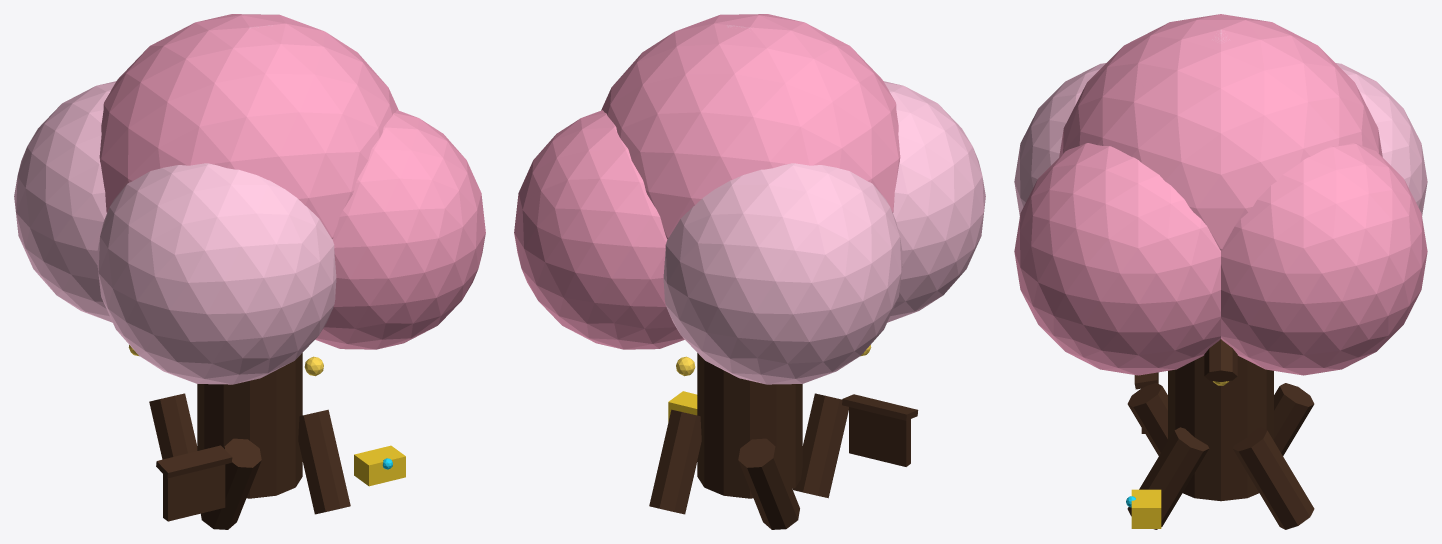
File: Arbol_Sagrado_Spectacular.obj
3 views of the same model, side by side, from view 1: azimuth 30°, elevation 25°; view 2: azimuth 150°, elevation 25°; view 3: azimuth 270°, elevation 25° (orthographic).
Visible parts, largest first — view 1: Sakura_Cloud_2, Sakura_Cloud_1, Sakura_Cloud_3, Sakura_Cloud_4, Tree_Trunk, Buttress_Root_4, Quest_Noticeboard, Buttress_Root_3, Buttress_Root_2, Daily_Reward_Chest, Quest_Rooflet; view 2: Sakura_Cloud_4, Sakura_Cloud_1, Sakura_Cloud_5, Sakura_Cloud_2, Tree_Trunk, Buttress_Root_1, Buttress_Root_3, Buttress_Root_2, Quest_Noticeboard, Quest_Rooflet, Daily_Reward_Chest; view 3: Sakura_Cloud_1, Sakura_Cloud_3, Sakura_Cloud_5, Tree_Trunk, Sakura_Cloud_2, Sakura_Cloud_4, Buttress_Root_1, Buttress_Root_4, Buttress_Root_2, Buttress_Root_3, Daily_Reward_Chest, Bough_1.
Part boxes in pixels (box(x1,y1,x2,y2)): Sakura_Cloud_2: box(96, 163, 336, 384); Sakura_Cloud_1: box(99, 14, 398, 238); Sakura_Cloud_3: box(315, 110, 485, 349); Sakura_Cloud_4: box(14, 81, 116, 322); Tree_Trunk: box(197, 353, 302, 498); Buttress_Root_4: box(298, 409, 350, 514); Quest_Noticeboard: box(163, 464, 225, 521); Buttress_Root_3: box(201, 438, 261, 529); Buttress_Root_2: box(149, 393, 197, 459); Daily_Reward_Chest: box(354, 445, 405, 486); Quest_Rooflet: box(156, 445, 232, 478); Sakura_Cloud_4: box(663, 163, 903, 384); Sakura_Cloud_1: box(601, 14, 900, 238); Sakura_Cloud_5: box(514, 110, 684, 349); Sakura_Cloud_2: box(883, 81, 985, 322); Tree_Trunk: box(697, 353, 802, 498); Buttress_Root_1: box(649, 409, 701, 514); Buttress_Root_3: box(792, 393, 848, 498); Buttress_Root_2: box(738, 438, 799, 529); Quest_Noticeboard: box(849, 407, 910, 466); Quest_Rooflet: box(842, 394, 918, 420); Daily_Reward_Chest: box(668, 391, 697, 421); Sakura_Cloud_1: box(1059, 14, 1382, 250); Sakura_Cloud_3: box(1014, 143, 1220, 375); Sakura_Cloud_5: box(1221, 143, 1427, 375); Tree_Trunk: box(1168, 355, 1273, 501); Sakura_Cloud_2: box(1014, 63, 1105, 215); Sakura_Cloud_4: box(1336, 63, 1427, 215); Buttress_Root_1: box(1232, 427, 1314, 529); Buttress_Root_4: box(1127, 427, 1209, 529); Buttress_Root_2: box(1274, 383, 1314, 455); Buttress_Root_3: box(1127, 383, 1167, 455); Daily_Reward_Chest: box(1131, 489, 1161, 528); Bough_1: box(1204, 339, 1237, 381).
Size of the model in its own units: 25 by 31.71 by 25.
